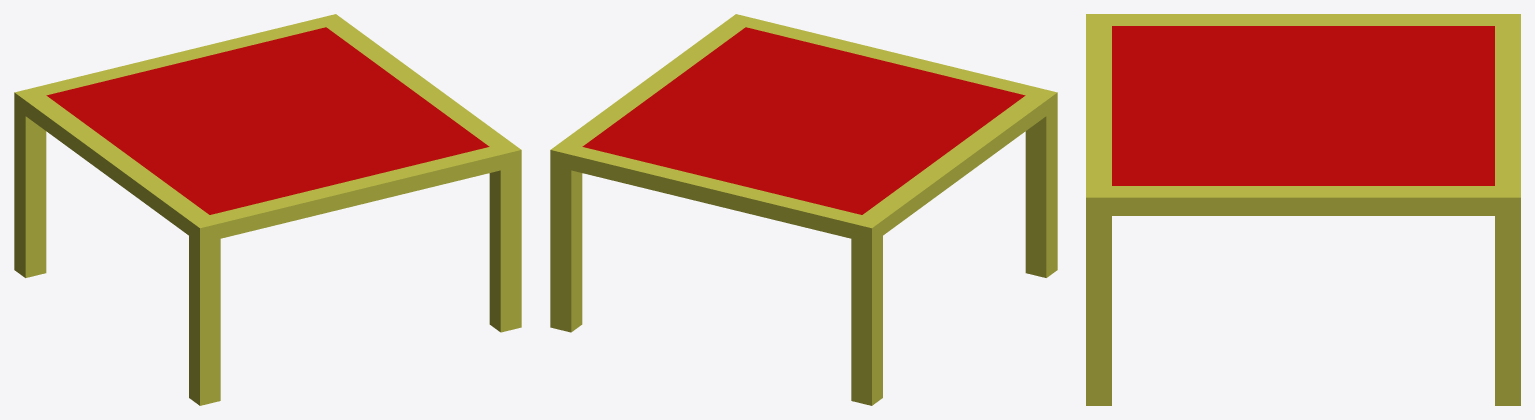
File: table2.fbx
3 views of the same model, side by side, from view 1: azimuth 30°, elevation 25°; view 2: azimuth 150°, elevation 25°; view 3: azimuth 270°, elevation 25° (orthographic). The views are drawn at different scales.
Visible parts, largest first — view 1: table2; view 2: table2; view 3: table2.
Boxes of the visible parts, box(x1,y1,x2,y2) form: table2: box(14, 14, 521, 405); table2: box(550, 14, 1057, 405); table2: box(1086, 14, 1520, 405).
Bounding box in the file's own units: 154 × 81.23 × 154.
